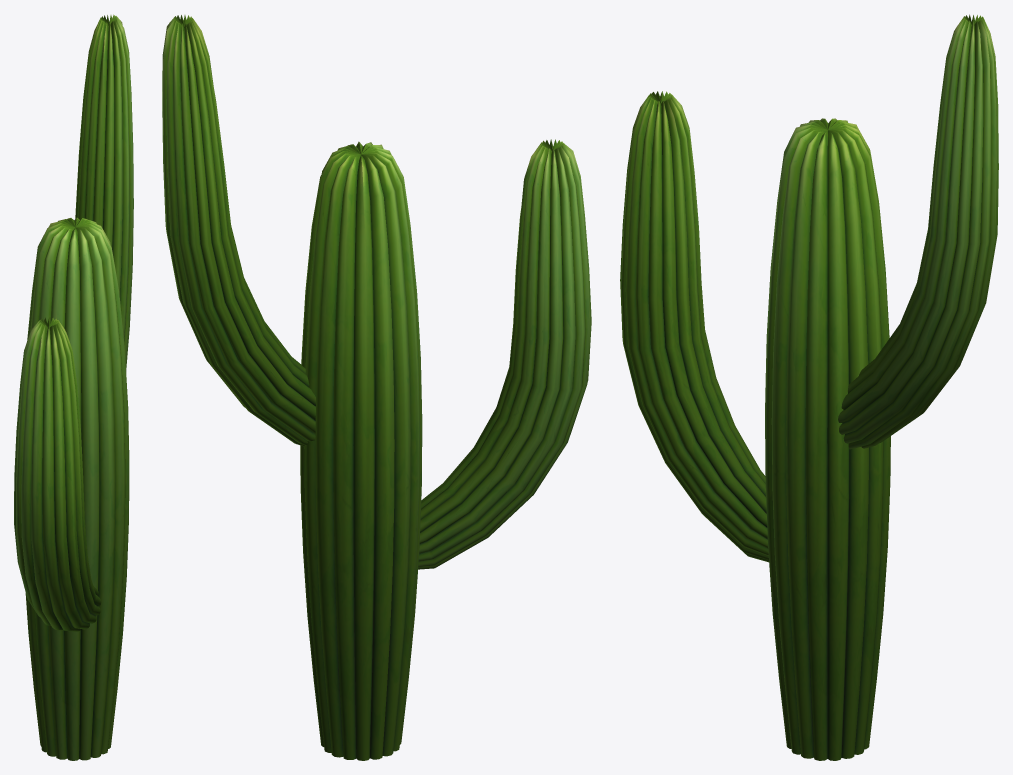
File: DE_Cactus_36.fbx
The picture shows the model from 3 angles, left to right: view 1: azimuth 30°, elevation 25°; view 2: azimuth 150°, elevation 25°; view 3: azimuth 270°, elevation 25°; orthographic projection. The views are drawn at different scales.
Visible parts, largest first — view 1: DE_Cactus_36; view 2: DE_Cactus_36; view 3: DE_Cactus_36.
Part boxes in pixels (x1,y1,x2,y2): DE_Cactus_36: (14, 14, 133, 760); DE_Cactus_36: (162, 15, 591, 760); DE_Cactus_36: (620, 14, 998, 760).
Bounding box in the file's own units: 2.17 × 5.71 × 2.51.
